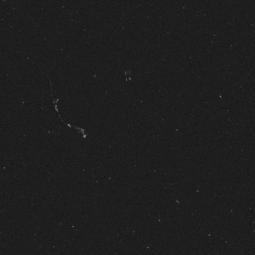lisa_pathfinder: (36, 49, 147, 149)
